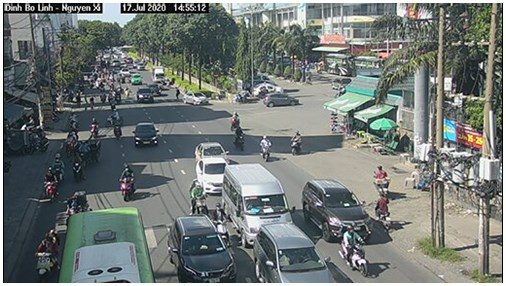xe_hoi: (253, 224, 337, 284), (302, 177, 372, 243), (180, 135, 231, 161), (196, 152, 224, 192), (134, 118, 160, 154), (259, 91, 302, 108), (179, 89, 208, 106), (135, 85, 153, 105)
xe_khach: (223, 166, 295, 246)
xe_may: (339, 225, 375, 275), (27, 230, 62, 276), (180, 176, 208, 215), (371, 194, 395, 232), (215, 198, 232, 251), (368, 156, 389, 198), (117, 164, 138, 202), (39, 165, 58, 204), (47, 147, 65, 185), (70, 146, 87, 183), (287, 127, 305, 159), (259, 130, 273, 165), (232, 126, 247, 152), (86, 118, 101, 138), (228, 107, 240, 130), (112, 119, 122, 139)
